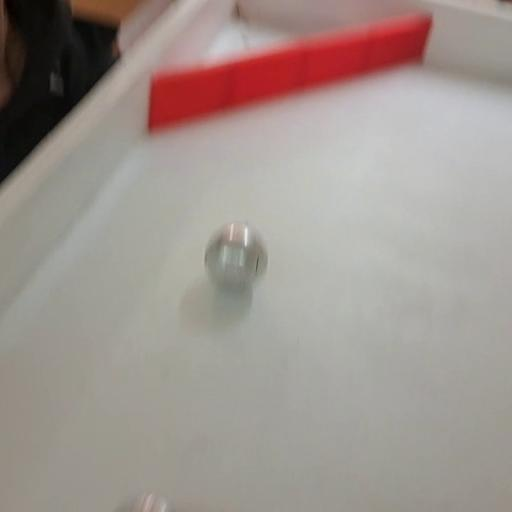alive: (201, 220, 271, 294)
